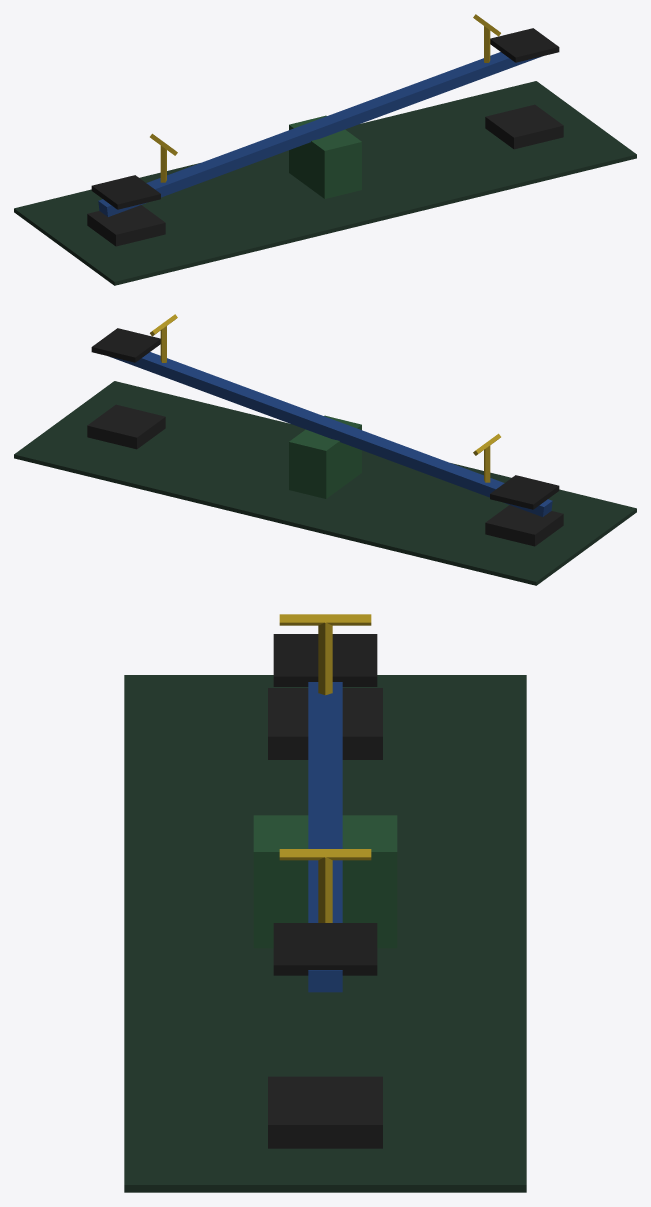
The model's file is SM_Prop_play_seesaw_0_LOD1.glb.
3 renders of one model, top to bottom at view 1: azimuth 30°, elevation 25°; view 2: azimuth 150°, elevation 25°; view 3: azimuth 270°, elevation 25°, orthographic. The views are drawn at different scales.
Visible parts, largest first — view 1: SM_Prop_play_seesaw_0_LOD1; view 2: SM_Prop_play_seesaw_0_LOD1; view 3: SM_Prop_play_seesaw_0_LOD1.
Boxes of the visible parts, x1,y1,x2,y2 form: SM_Prop_play_seesaw_0_LOD1: (14, 14, 636, 285); SM_Prop_play_seesaw_0_LOD1: (14, 314, 636, 585); SM_Prop_play_seesaw_0_LOD1: (124, 614, 526, 1192).
Size of the model in its own units: 4.2 by 0.9476 by 1.4.
